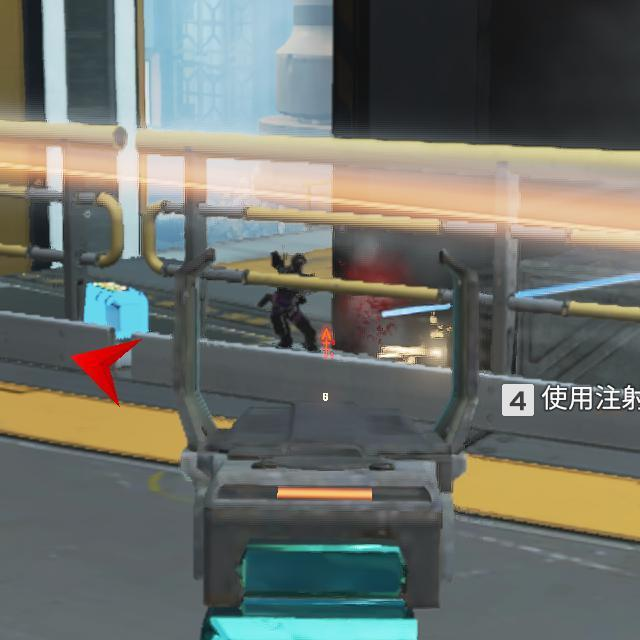avatar: (268, 246, 319, 353)
